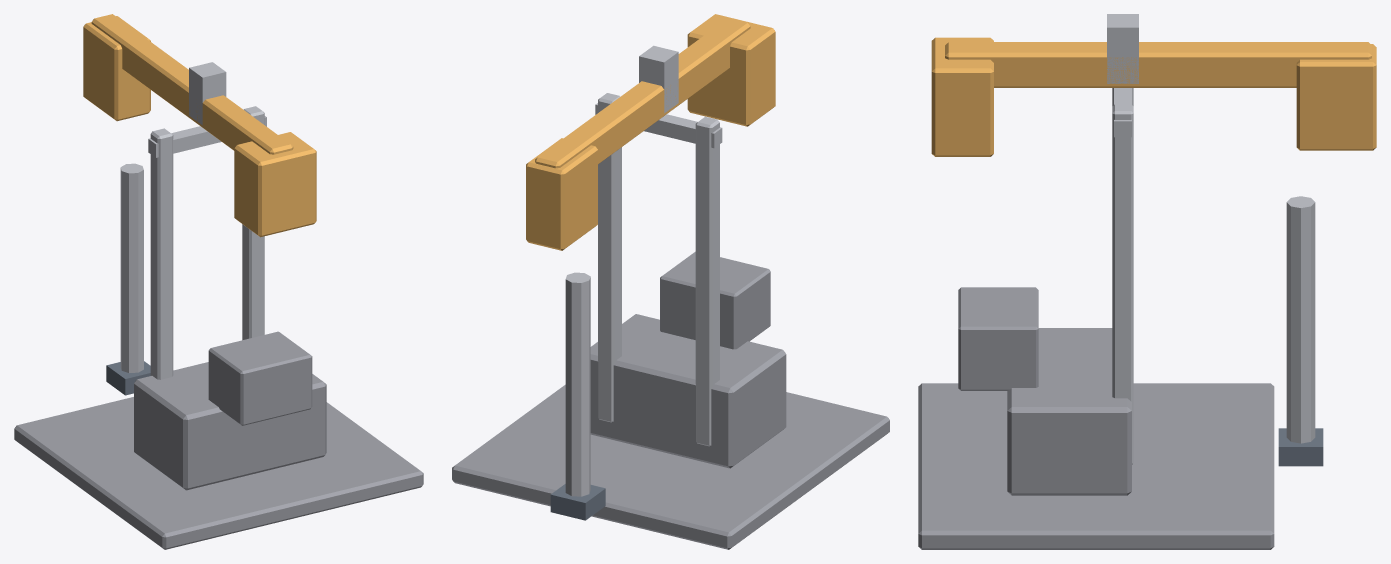
The model's file is oil_pump_01.glb.
3 views of the same model, side by side, from view 1: azimuth 30°, elevation 25°; view 2: azimuth 150°, elevation 25°; view 3: azimuth 270°, elevation 25° (orthographic). The views are drawn at different scales.
Parts seen in each view (by area): view 1: oil_pump_01; view 2: oil_pump_01; view 3: oil_pump_01.
Boxes of the visible parts, bbox=[...] form: oil_pump_01: bbox=[14, 14, 423, 549]; oil_pump_01: bbox=[452, 14, 889, 549]; oil_pump_01: bbox=[918, 14, 1376, 549].
Size of the model in its own units: 2 by 2.83 by 2.58.
